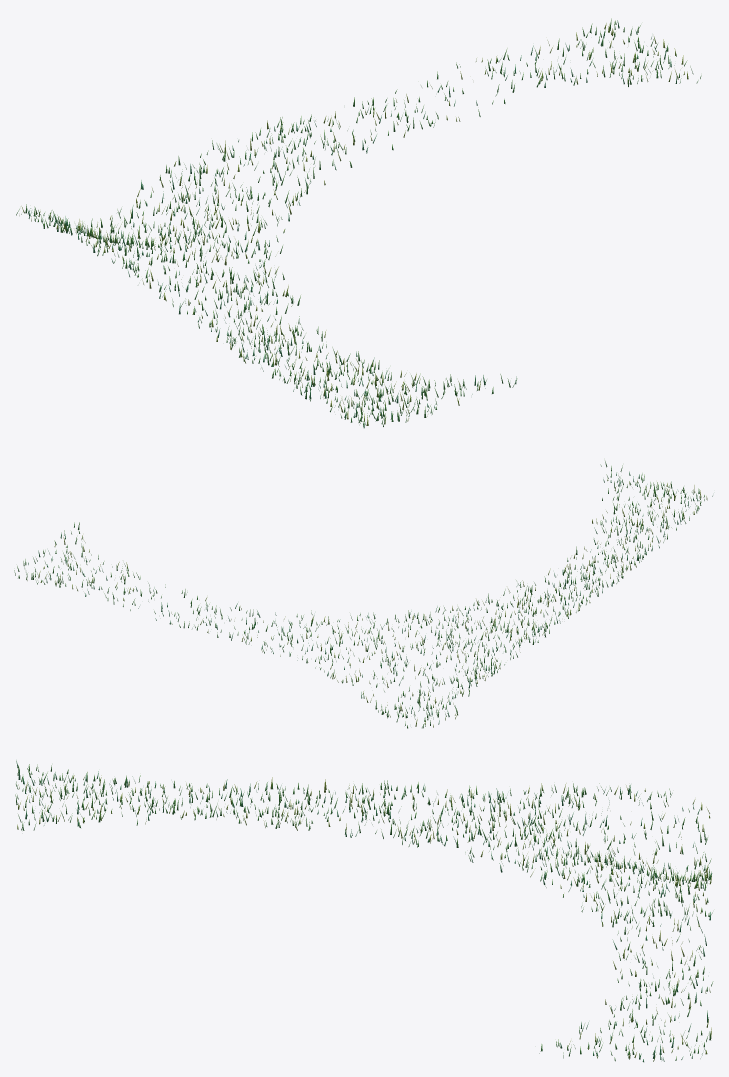
3 views of the same model, one above another, from view 1: azimuth 30°, elevation 25°; view 2: azimuth 150°, elevation 25°; view 3: azimuth 270°, elevation 25° (orthographic). The views are drawn at different scales.
Parts seen in each view (by area): view 1: gc_48; view 2: gc_48; view 3: gc_48.
Boxes of the visible parts, bbox=[...] form: gc_48: bbox=[16, 18, 701, 428]; gc_48: bbox=[14, 461, 712, 728]; gc_48: bbox=[15, 760, 713, 1062].
Bounding box in the file's own units: 18.15 × 2.58 × 18.15.
1 material, 1 textured.
